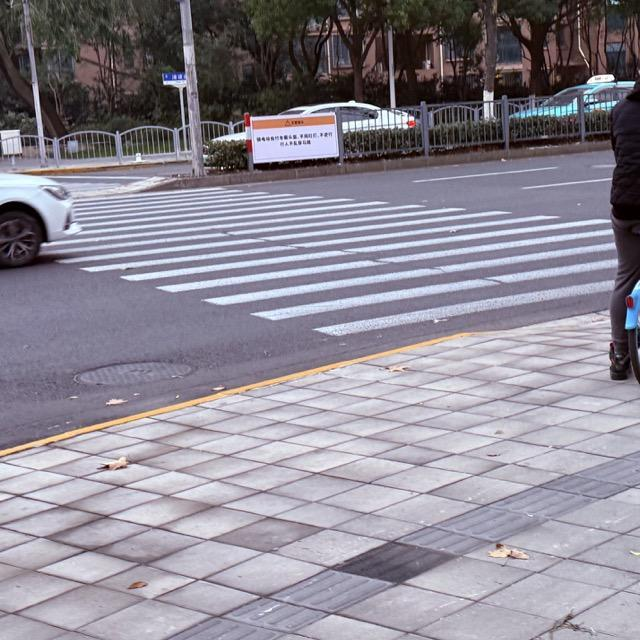curb: (0, 333, 474, 458), (142, 140, 608, 190), (15, 160, 184, 175)
